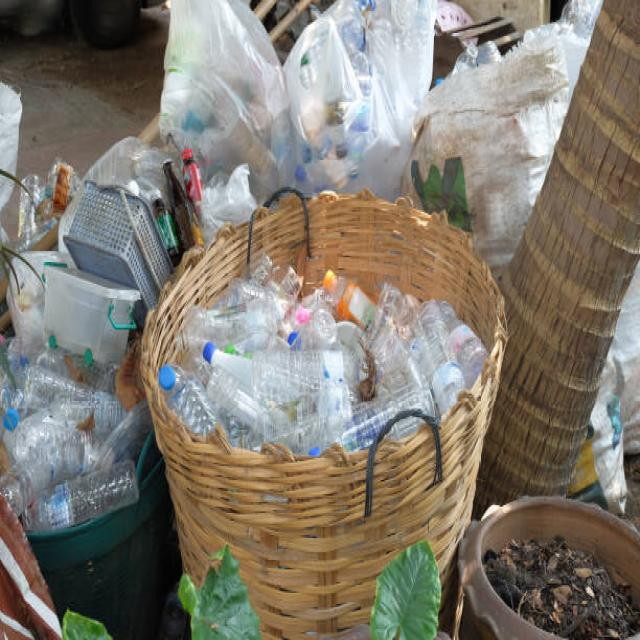plastic: (198, 284, 450, 400)
